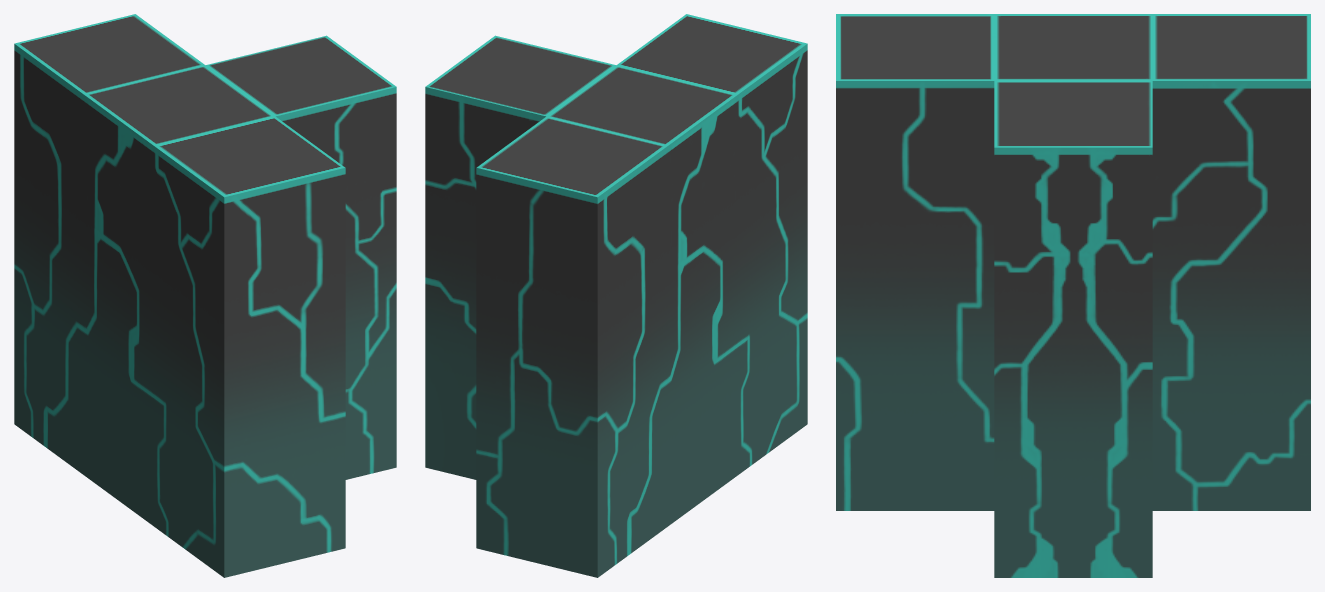
File: T_Tile.fbx
The picture shows the model from 3 angles, left to right: view 1: azimuth 30°, elevation 25°; view 2: azimuth 150°, elevation 25°; view 3: azimuth 270°, elevation 25°; orthographic projection. The views are drawn at different scales.
Visible parts, largest first — view 1: T_Tile; view 2: T_Tile; view 3: T_Tile.
Part boxes in pixels (left/top/right/bottom): T_Tile: left=14, top=14, right=396, bottom=577; T_Tile: left=425, top=14, right=807, bottom=577; T_Tile: left=836, top=14, right=1310, bottom=577.
Size of the model in its own units: 1000 by 1500 by 1500.
